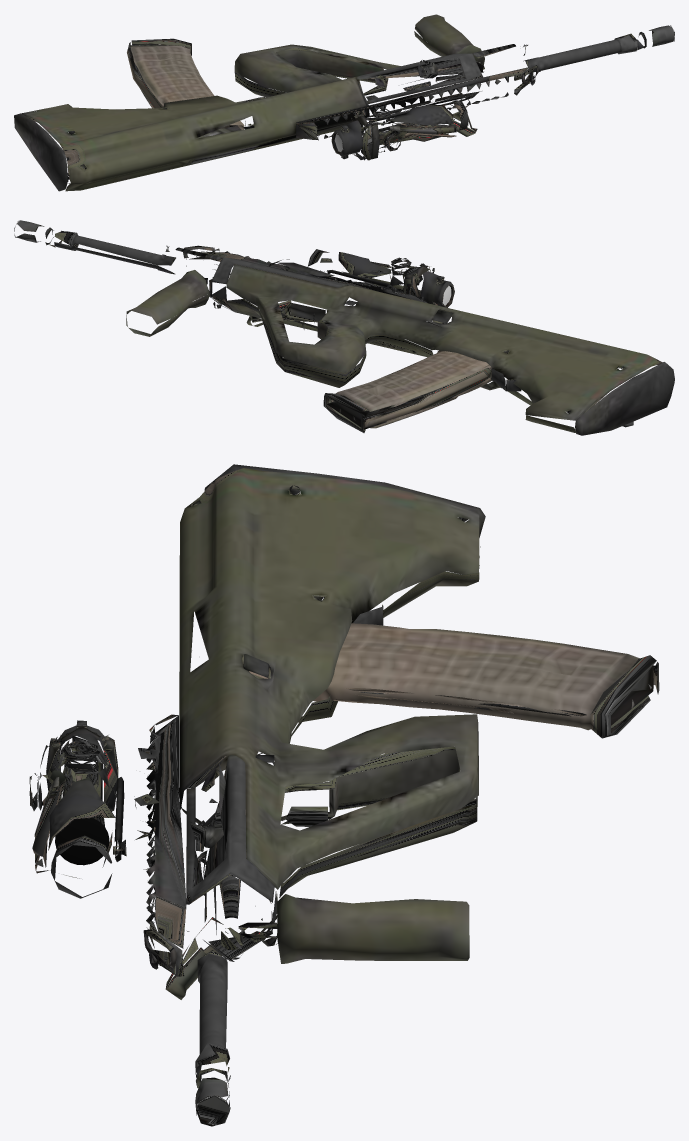
Rendered from p_aug.glb.
3 renders of one model, top to bottom at view 1: azimuth 30°, elevation 25°; view 2: azimuth 150°, elevation 25°; view 3: azimuth 270°, elevation 25°, orthographic. The views are drawn at different scales.
Parts seen in each view (by area): view 1: p_aug; view 2: p_aug; view 3: p_aug.
Boxes of the visible parts, x1,y1,x2,y2 form: p_aug: (14,14,674,191); p_aug: (14,220,674,435); p_aug: (29,464,659,1126).
Size of the model in its own units: 0.9458 by 0.1164 by 0.4228.
3 materials, 3 textured.
